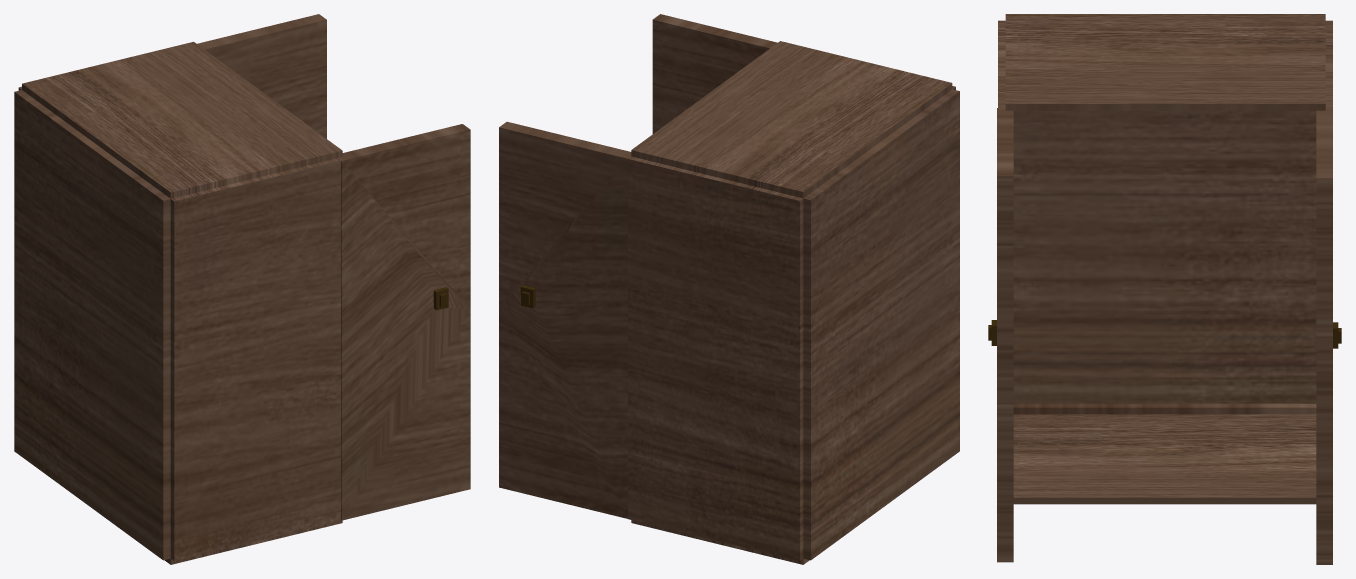
File: Locker.glb
3 renders of one model, left to right at view 1: azimuth 30°, elevation 25°; view 2: azimuth 150°, elevation 25°; view 3: azimuth 270°, elevation 25°, orthographic. The views are drawn at different scales.
Visible parts, largest first — view 1: Куб, Куб.002, Куб.001; view 2: Куб, Куб.001, Куб.002; view 3: Куб, Куб.001, Куб.002.
Boxes of the visible parts, <box> form: Куб: <box>14,41,342,564</box>; Куб.002: <box>338,124,470,520</box>; Куб.001: <box>197,14,326,138</box>; Куб: <box>628,41,959,564</box>; Куб.001: <box>499,121,631,518</box>; Куб.002: <box>652,14,777,133</box>; Куб: <box>998,14,1332,504</box>; Куб.001: <box>1316,110,1341,564</box>; Куб.002: <box>988,108,1013,562</box>.
Bounding box in the file's own units: 3.58 × 4.14 × 3.31.
5 materials, 3 textured.
